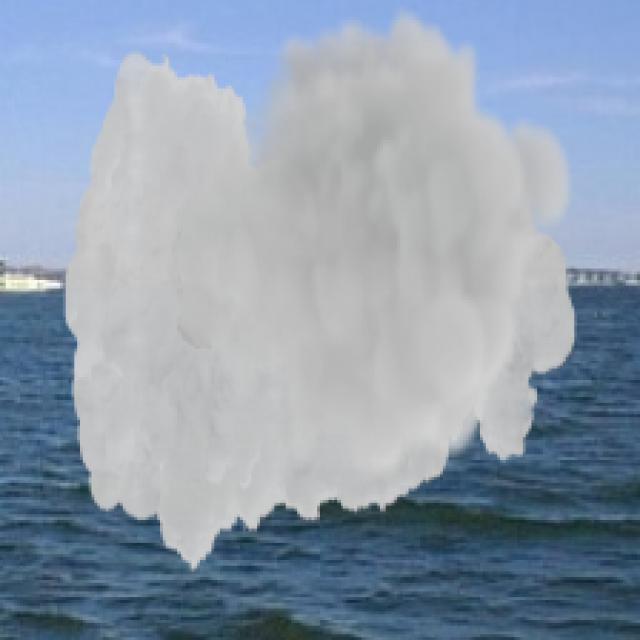Smoke: (62, 6, 578, 574)
